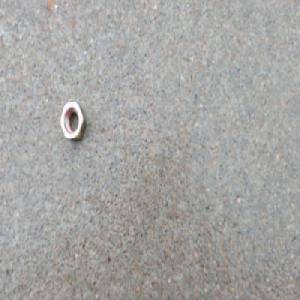Nut: (59, 100, 85, 141)
